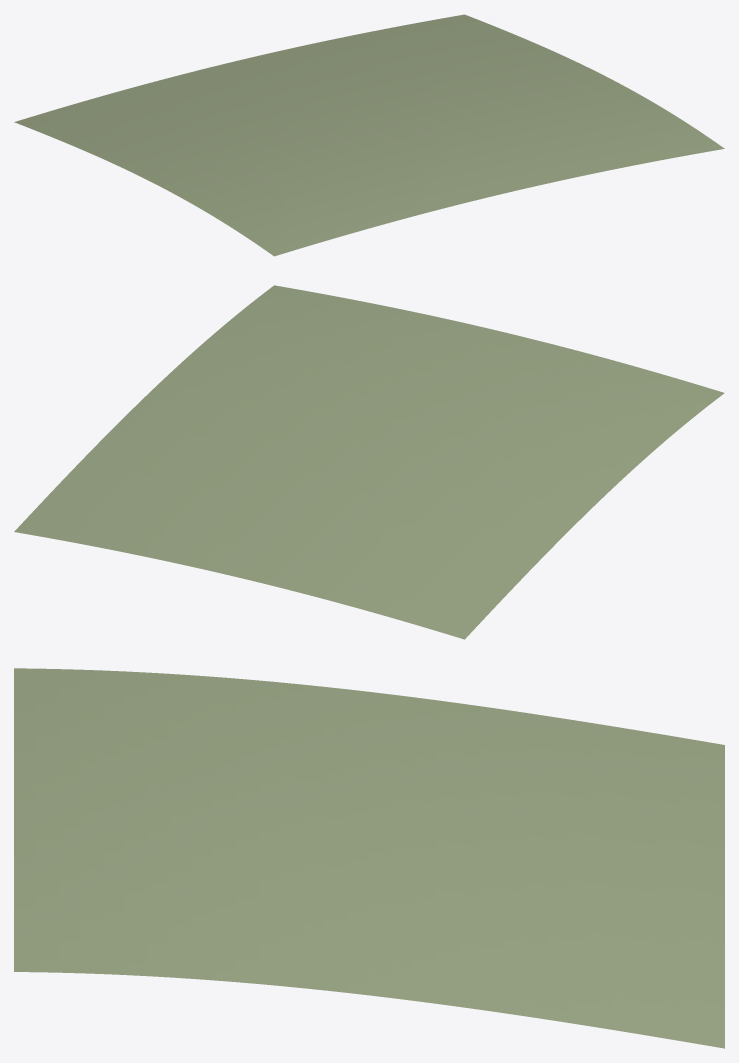
The model's file is valley-15-14.glb.
3 renders of one model, top to bottom at view 1: azimuth 30°, elevation 25°; view 2: azimuth 150°, elevation 25°; view 3: azimuth 270°, elevation 25°, orthographic. The views are drawn at different scales.
Parts seen in each view (by area): view 1: valley-15-14; view 2: valley-15-14; view 3: valley-15-14.
Boxes of the visible parts, box(x1,y1,x2,y2) form: valley-15-14: box(14, 14, 724, 256); valley-15-14: box(14, 285, 724, 639); valley-15-14: box(14, 668, 724, 1048).
Bounding box in the file's own units: 256 × 35.48 × 256.
